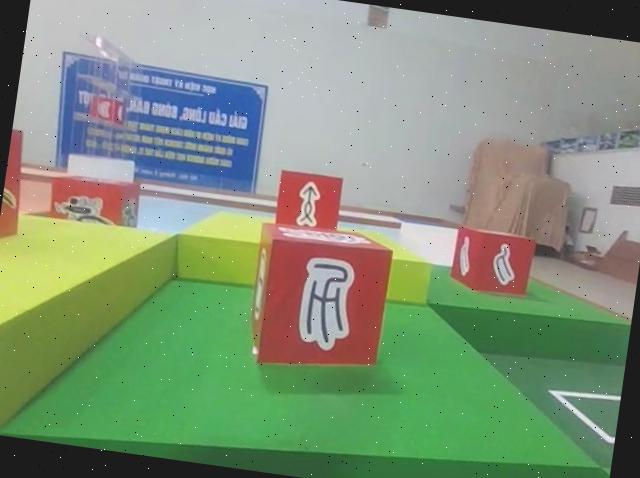R1: (43, 168, 146, 244), (0, 122, 36, 257)
R2 Fake: (241, 218, 399, 382)
R2 Real: (445, 221, 541, 303), (271, 165, 348, 236)
